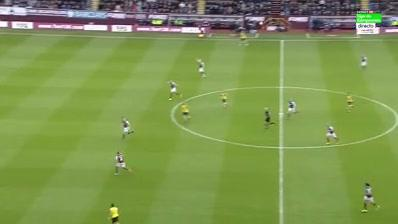player: (360, 180, 382, 216), (112, 149, 133, 177), (117, 114, 137, 140), (106, 200, 125, 223), (166, 78, 185, 100), (325, 122, 342, 146), (284, 96, 300, 119), (344, 90, 358, 113), (179, 101, 192, 125), (196, 58, 209, 81), (237, 30, 251, 50), (218, 88, 230, 109), (359, 51, 370, 70)
referree: (261, 104, 277, 130)
